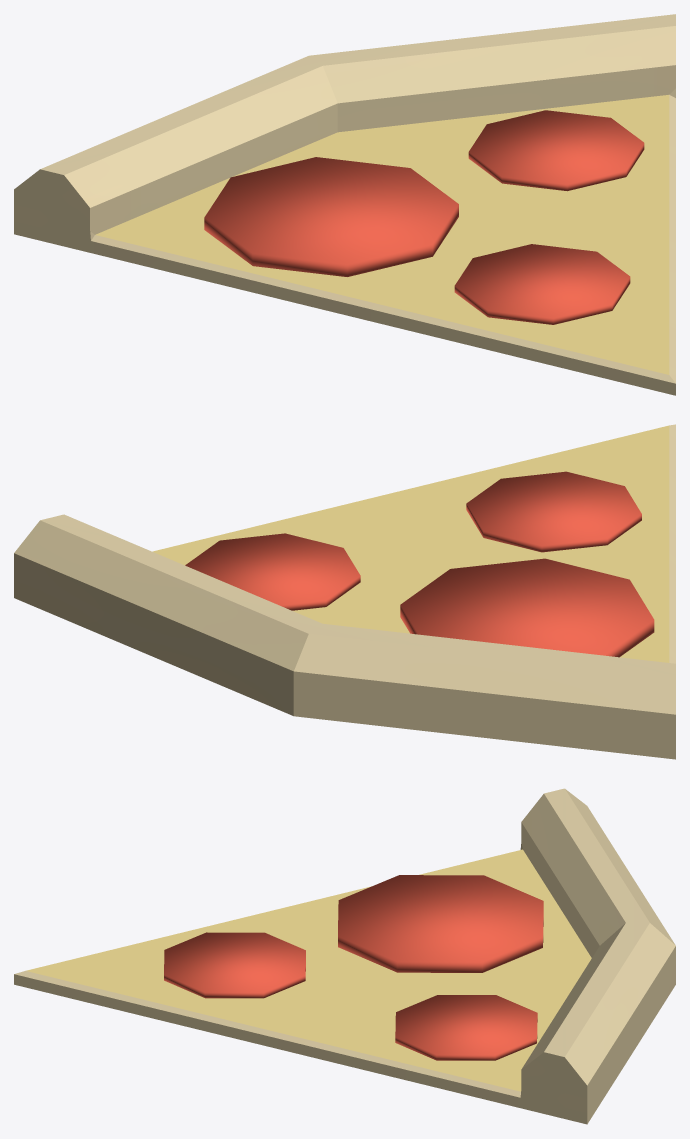
File: pizza-pepperoni-slice.glb
3 renders of one model, top to bottom at view 1: azimuth 30°, elevation 25°; view 2: azimuth 150°, elevation 25°; view 3: azimuth 270°, elevation 25°, orthographic. The views are drawn at different scales.
Parts seen in each view (by area): view 1: PizzaPepperoniSlice.001; view 2: PizzaPepperoniSlice.001; view 3: PizzaPepperoniSlice.001.
Part boxes in pixels (left/top/right/bottom): PizzaPepperoniSlice.001: left=14, top=14, right=675, bottom=395; PizzaPepperoniSlice.001: left=14, top=424, right=675, bottom=759; PizzaPepperoniSlice.001: left=14, top=788, right=675, bottom=1124.
Bounding box in the file's own units: 0.298 × 0.0307 × 0.298.
1 material, 1 textured.
